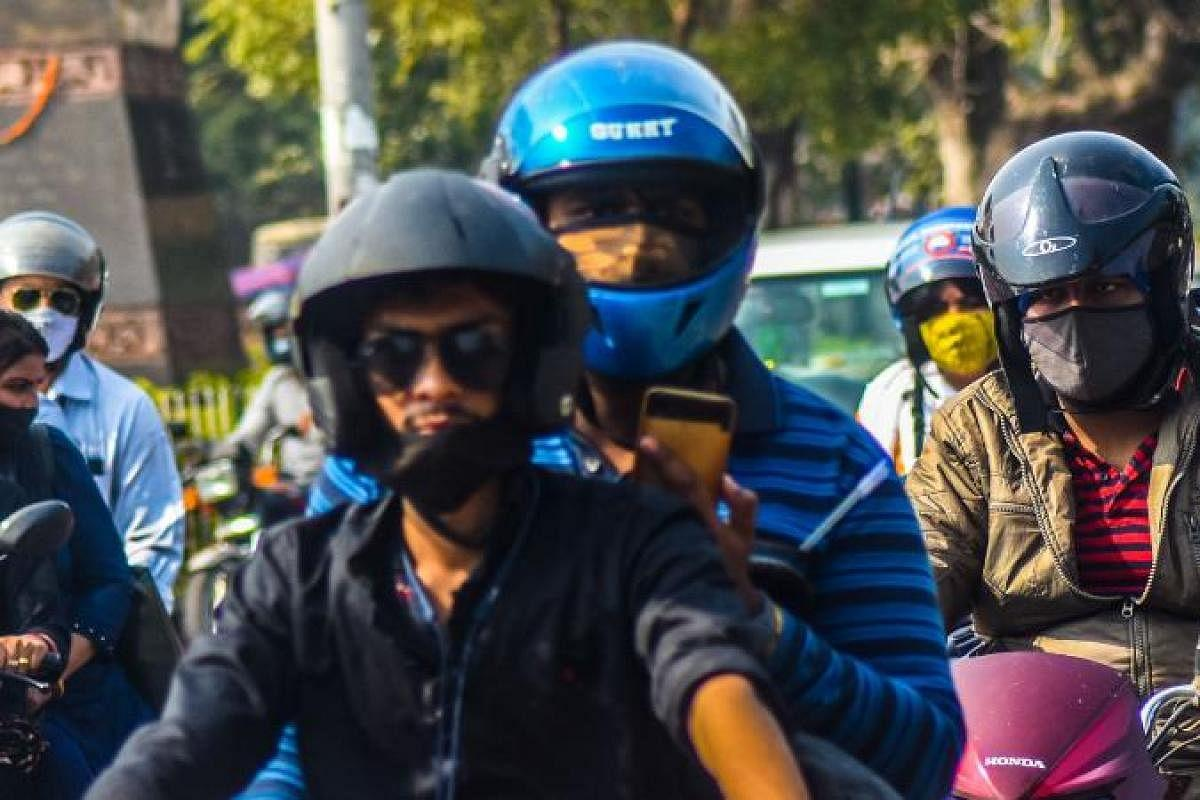Helmet: (484, 40, 764, 429), (290, 169, 590, 437)
